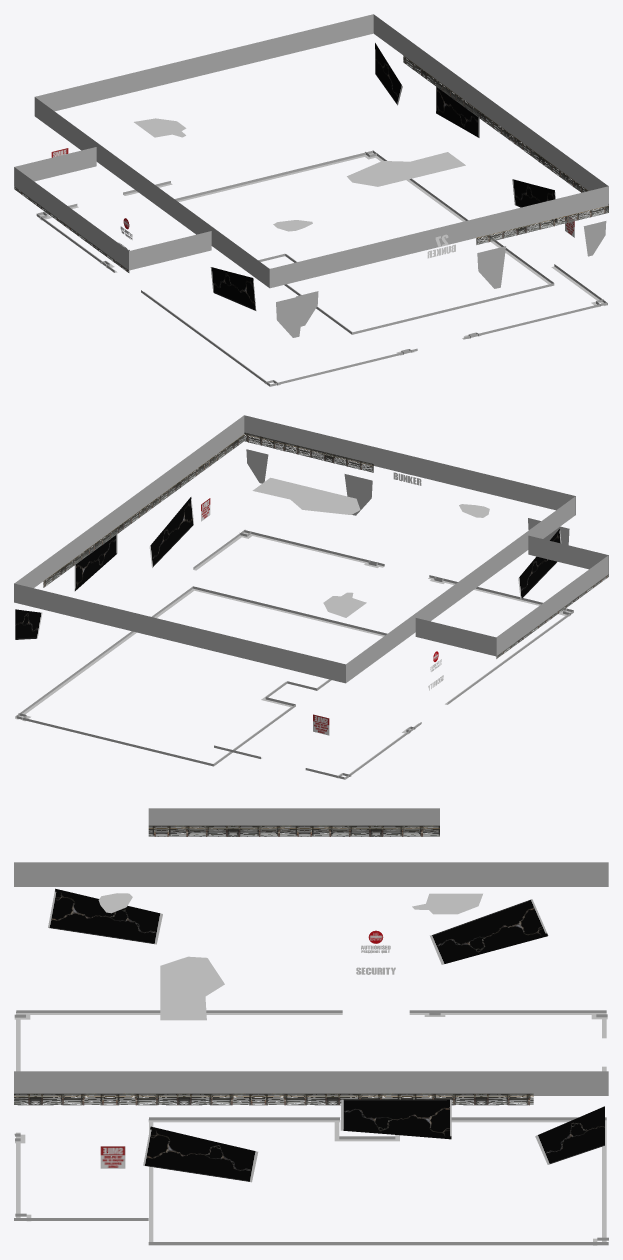
File: R1_Decals.FBX
3 views of the same model, one above another, from view 1: azimuth 30°, elevation 25°; view 2: azimuth 150°, elevation 25°; view 3: azimuth 270°, elevation 25° (orthographic). The views are drawn at different scales.
Parts seen in each view (by area): view 1: R1_Decal01, R1_Decal02; view 2: R1_Decal01, R1_Decal02; view 3: R1_Decal01, R1_Decal02.
Boxes of the visible parts, x1=… form: R1_Decal01: x1=14, y1=14, x2=608, y2=386; R1_Decal02: x1=14, y1=55, x2=608, y2=272; R1_Decal01: x1=14, y1=415, x2=608, y2=779; R1_Decal02: x1=43, y1=432, x2=608, y2=735; R1_Decal01: x1=14, y1=808, x2=608, y2=1245; R1_Decal02: x1=14, y1=825, x2=533, y2=1168.
Size of the model in its own units: 1395 by 431 by 1333.
